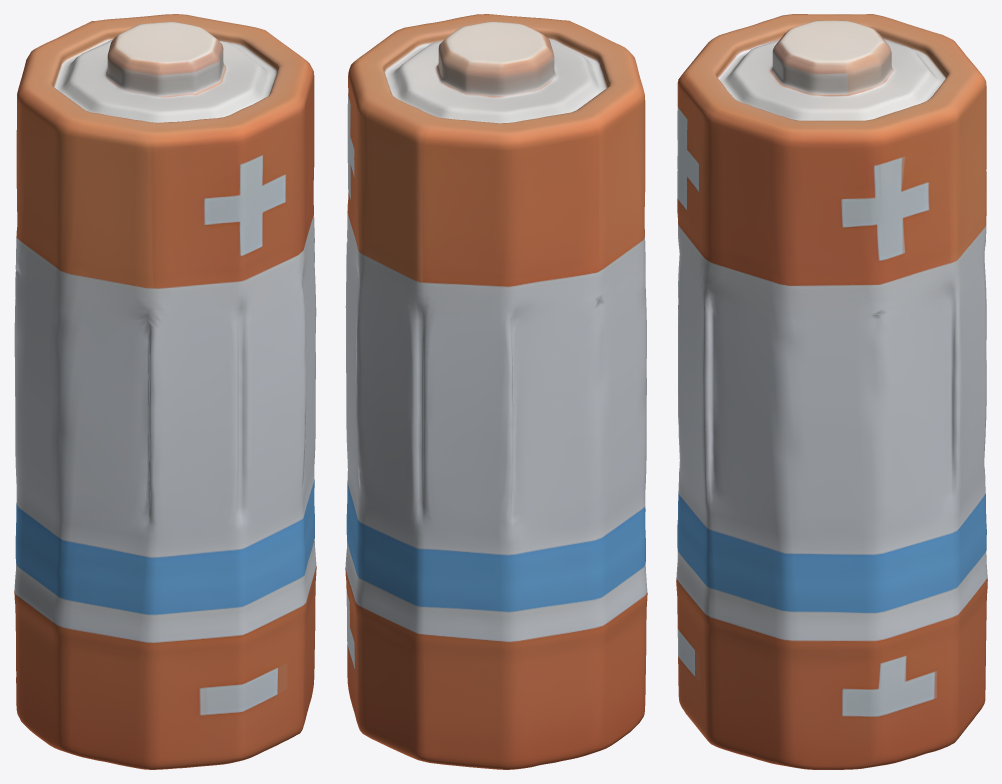
The model's file is base_basic_pbr.fbx.
3 renders of one model, left to right at view 1: azimuth 30°, elevation 25°; view 2: azimuth 150°, elevation 25°; view 3: azimuth 270°, elevation 25°, orthographic.
Visible parts, largest first — view 1: model; view 2: model; view 3: model.
Part boxes in pixels (x1,y1,x2,y2): model: [14, 14, 316, 769]; model: [345, 14, 647, 769]; model: [676, 14, 987, 769].
Size of the model in its own units: 76.81 by 191 by 80.11.
Materials: 1 (1 with a texture image).
